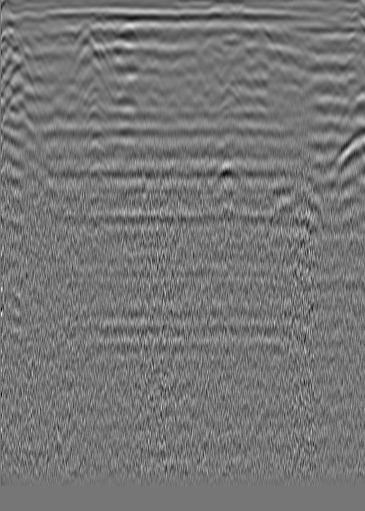가스: (209, 161, 247, 193)
상수: (323, 10, 361, 44)
오수: (15, 31, 46, 61)
우수: (171, 22, 204, 50)
